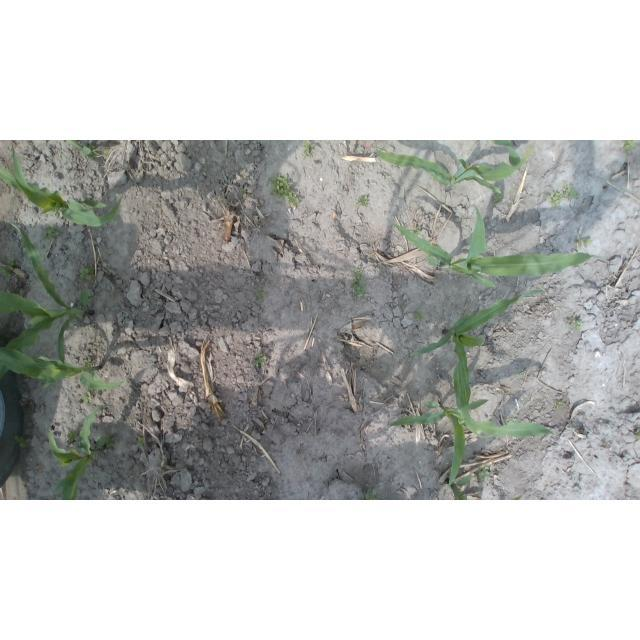Maize: (407, 288, 545, 440), (394, 204, 605, 289), (388, 398, 557, 488), (0, 219, 94, 378), (0, 144, 122, 227), (377, 140, 537, 194), (42, 403, 114, 499), (1, 347, 126, 392), (445, 141, 522, 170), (442, 474, 523, 500), (63, 140, 98, 160)
Weeds: (270, 173, 301, 206), (348, 266, 366, 297), (1, 257, 19, 278), (77, 263, 95, 281), (562, 182, 579, 200), (42, 224, 59, 241), (566, 314, 583, 330), (618, 141, 636, 156), (547, 191, 562, 208), (15, 434, 33, 448), (476, 466, 490, 483), (302, 140, 315, 158), (252, 352, 267, 367), (66, 429, 80, 444), (86, 145, 99, 160), (103, 432, 115, 448), (357, 195, 370, 207), (413, 309, 425, 322), (492, 193, 503, 207), (366, 488, 378, 500), (82, 391, 93, 403), (505, 418, 519, 426), (256, 287, 264, 301), (554, 399, 565, 409), (137, 436, 145, 449), (83, 359, 93, 368), (48, 209, 59, 217), (102, 149, 110, 160), (413, 227, 421, 235), (574, 238, 582, 246), (635, 428, 640, 440), (241, 188, 247, 198), (585, 239, 592, 247), (516, 293, 524, 300), (516, 371, 525, 377), (93, 342, 99, 347), (91, 207, 97, 212), (246, 145, 251, 149)
